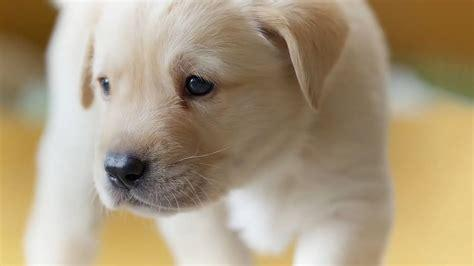dog: (23, 1, 392, 266)
